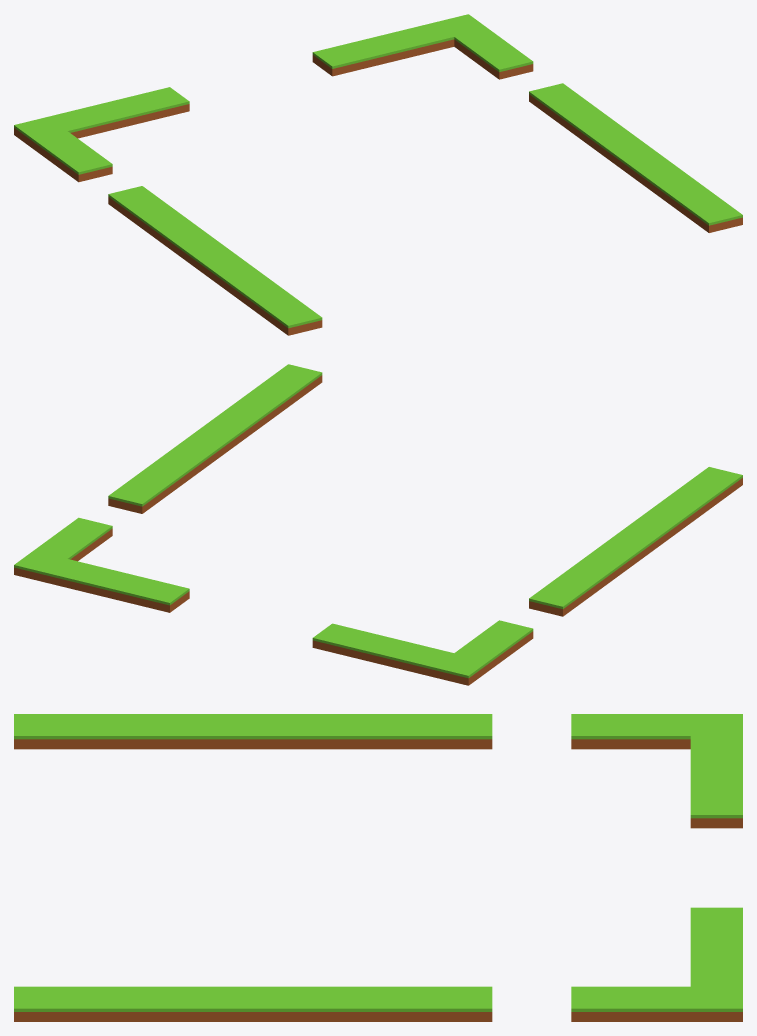
File: Abstract_Paths.fbx
The picture shows the model from 3 angles, top to bottom: view 1: azimuth 30°, elevation 25°; view 2: azimuth 150°, elevation 25°; view 3: azimuth 270°, elevation 25°; orthographic projection. The views are drawn at different scales.
Visible parts, largest first — view 1: Land_08, Land_15, Land_10, Land_06, Land_13, Land_11, Land_17, Land_07, Land_16, Land_14, Land_12, Land_05 (+2 smaller); view 2: Land_17, Land_08, Land_15, Land_05, Land_07, Land_14, Land_11, Land_09, Land_13, Land_04, Land_16, Land_10 (+2 smaller); view 3: Land_05, Land_14, Land_10, Land_11, Land_06, Land_04, Land_12, Land_13, Land_09, Land_16, Land_15, Land_07 (+2 smaller).
Part boxes in pixels (x1,y1,x2,y2): Land_08: (312,33,410,76); Land_15: (92,87,189,129); Land_10: (243,284,322,335); Land_06: (454,28,533,79); Land_13: (33,131,112,182); Land_11: (664,182,742,232); Land_17: (14,106,111,148); Land_07: (391,14,487,57); Land_16: (198,251,276,302); Land_14: (108,186,186,236); Land_12: (153,219,231,269); Land_05: (529,83,607,133); Land_17: (390,642,488,685); Land_08: (92,569,189,612); Land_15: (312,623,409,666); Land_05: (108,463,187,513); Land_07: (14,550,110,593); Land_14: (529,565,607,616); Land_11: (244,364,322,414); Land_09: (199,397,277,447); Land_13: (454,620,533,670); Land_04: (154,430,232,480); Land_16: (619,500,697,550); Land_10: (664,467,742,517); Land_05: (372,986,492,1021); Land_14: (372,714,492,749); Land_10: (14,714,133,749); Land_11: (14,986,133,1021); Land_06: (571,986,690,1021); Land_04: (253,986,372,1021); Land_12: (253,714,372,749); Land_13: (571,714,690,749); Land_09: (133,986,252,1021); Land_16: (133,714,252,749); Land_15: (690,764,742,828); Land_07: (690,958,742,1021).
Size of the model in its own units: 982 by 20.52 by 1026.
Materials: 1 (1 with a texture image).
